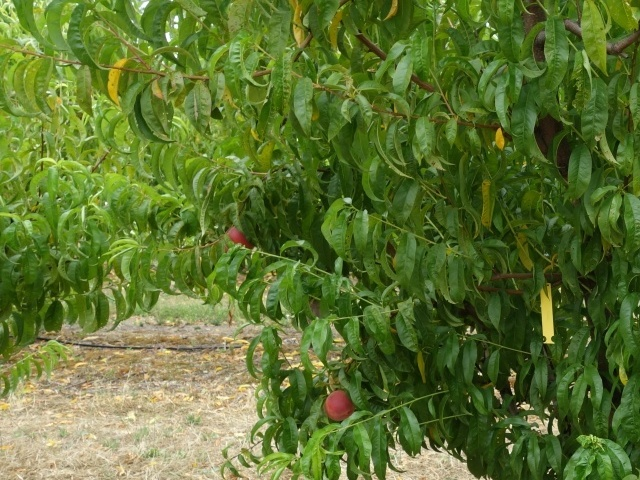peach: (319, 388, 360, 425), (218, 223, 257, 257)
